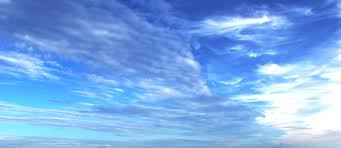sky: (2, 1, 341, 147)
